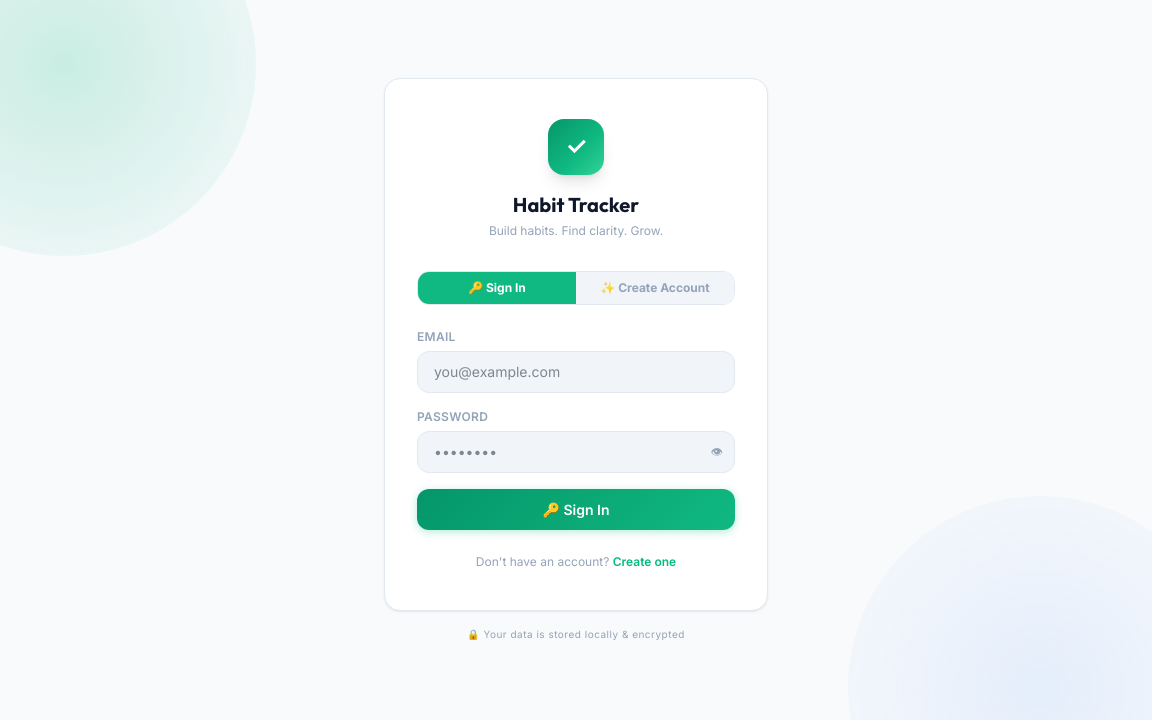
Test: AuthPages › switches to register form when clicking Create one
The image size is (1152, 720).
The switch link says "Create one"
Click the button "Create one": (644, 562) [613,554,676,570]
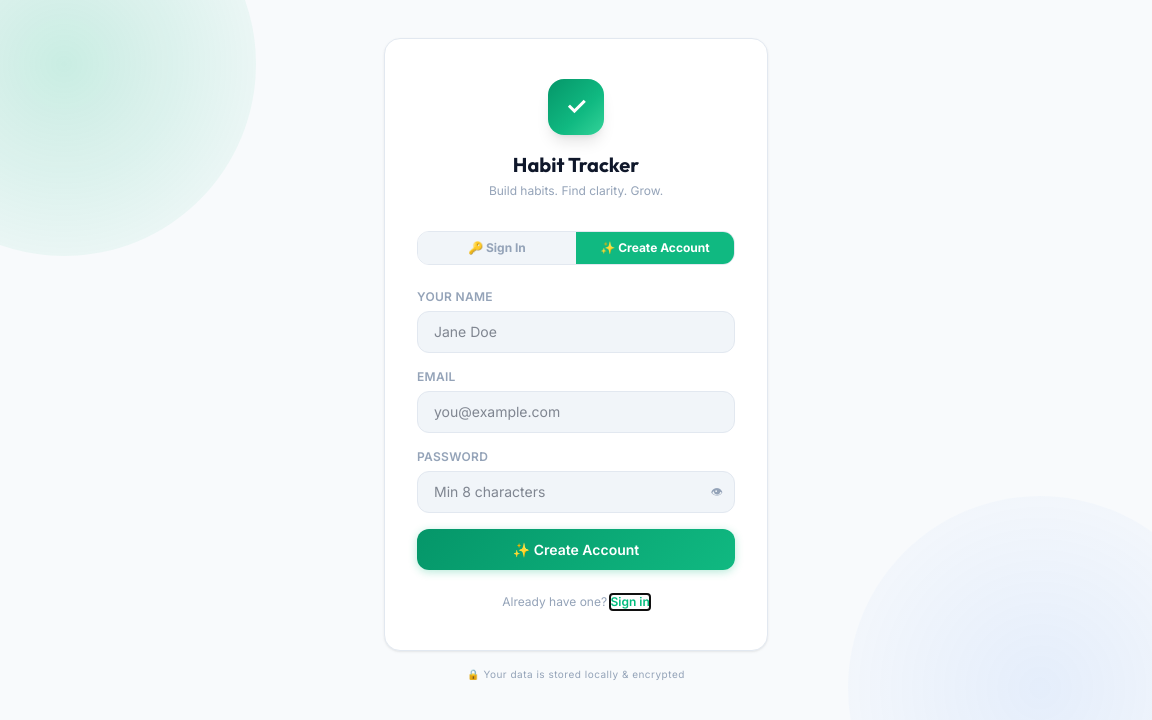
expect the field labelled "Your Name" is shown: met, box [417,311,735,353]
